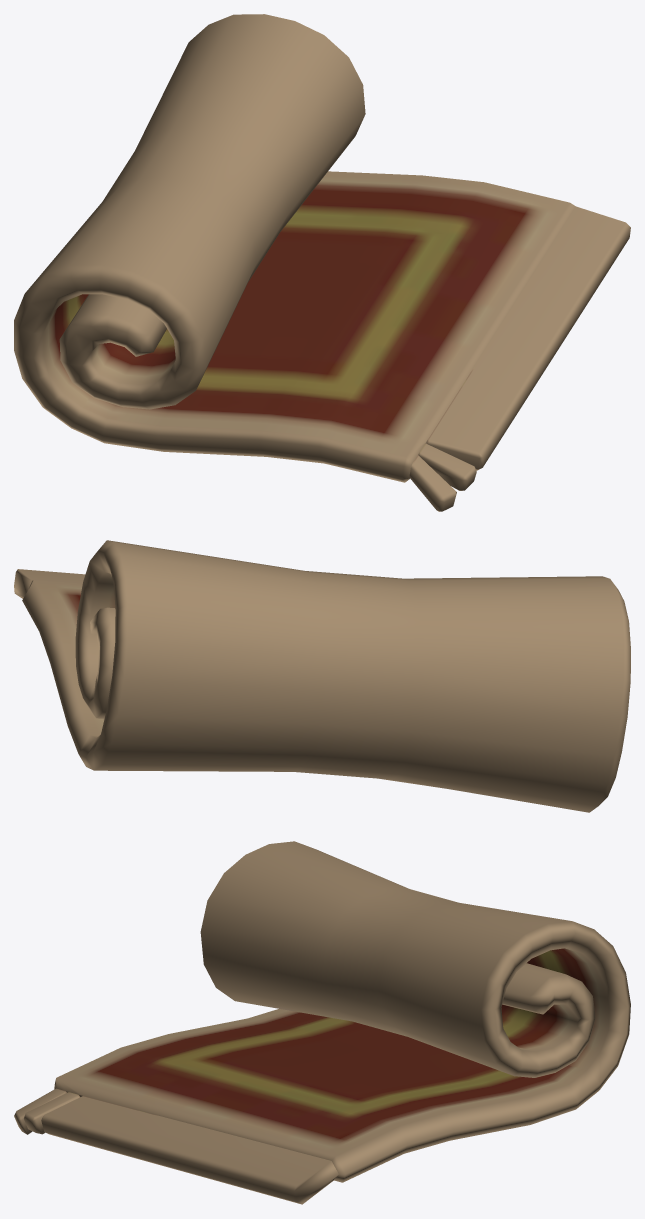
File: UnitIconRug.glb
The picture shows the model from 3 angles, top to bottom: view 1: azimuth 30°, elevation 25°; view 2: azimuth 150°, elevation 25°; view 3: azimuth 270°, elevation 25°; orthographic projection. The views are drawn at different scales.
Parts seen in each view (by area): view 1: Body__mBody; view 2: Body__mBody; view 3: Body__mBody.
Part boxes in pixels (left/top/right/bottom): Body__mBody: left=14, top=14, right=630, bottom=511; Body__mBody: left=14, top=540, right=630, bottom=812; Body__mBody: left=14, top=841, right=630, bottom=1204.
Bounding box in the file's own units: 6.24 × 2.72 × 6.03.
1 material, 1 textured.
